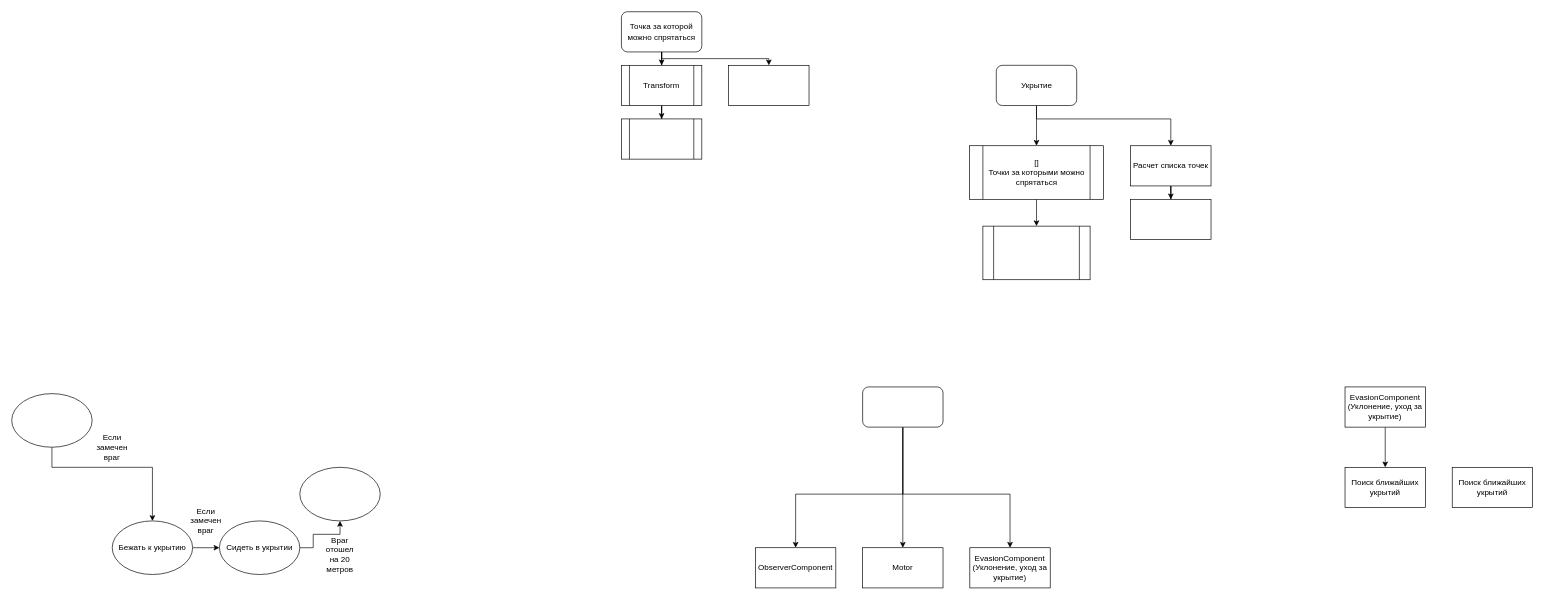
Image size: 1544x600. Some labels were removed from this diagram. The centre of each missing label's shape, as x and y in pixels:
"List<Точки> Точки, которые свободны, и которые игрок не видит" belongs at (1036,252).
"Trigger: Interact flag = !flag;" belongs at (768,85).
"Wanderer" belongs at (902,406).
"Бежать к врагу" belongs at (339,494).
"Расчет ближайшей свободной точки к передаваемой позиции" belongs at (1170,219).
"Стоять на месте" belongs at (51,420).
"Флаг Занято/Свободно" belongs at (661,138).
